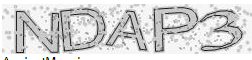3: (198, 9, 245, 53)
A: (105, 9, 149, 53)
D: (59, 7, 106, 53)
N: (14, 10, 60, 54)
P: (152, 6, 200, 53)
